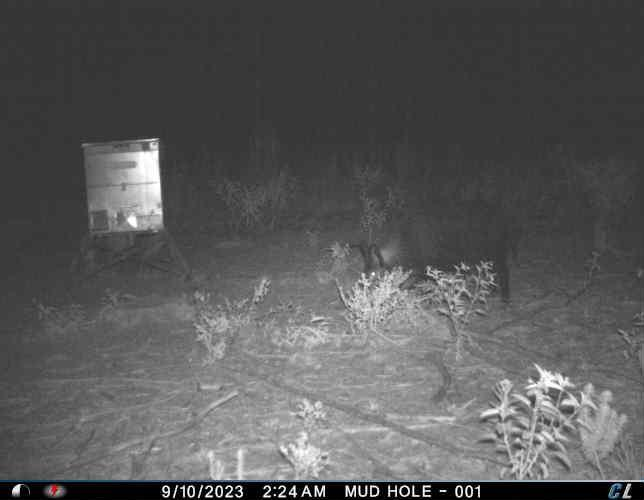Hog: (352, 192, 521, 311)
